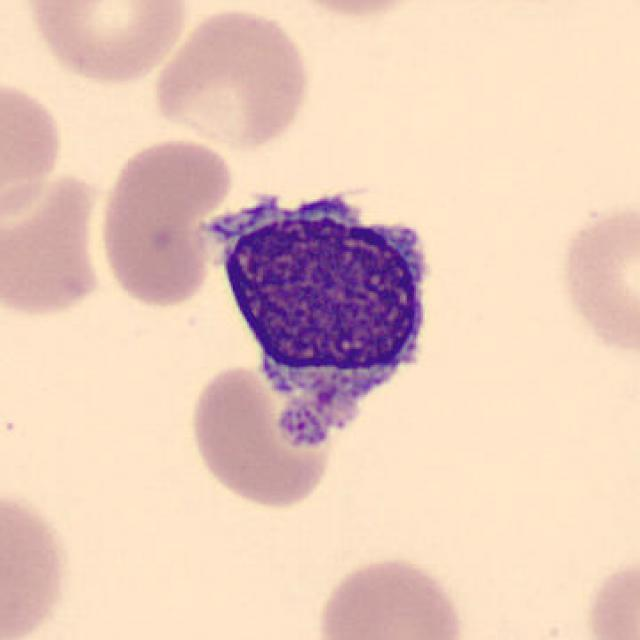Lymphocyte: (196, 168, 443, 467)
RBC: (94, 134, 238, 310), (183, 358, 345, 513), (150, 4, 317, 152), (553, 192, 638, 367), (21, 2, 194, 86), (311, 552, 469, 640), (0, 479, 78, 640), (582, 556, 639, 639)
